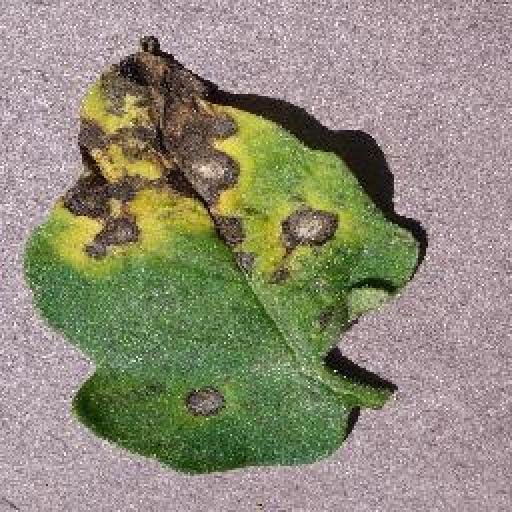Septoria: (27, 36, 420, 475)
